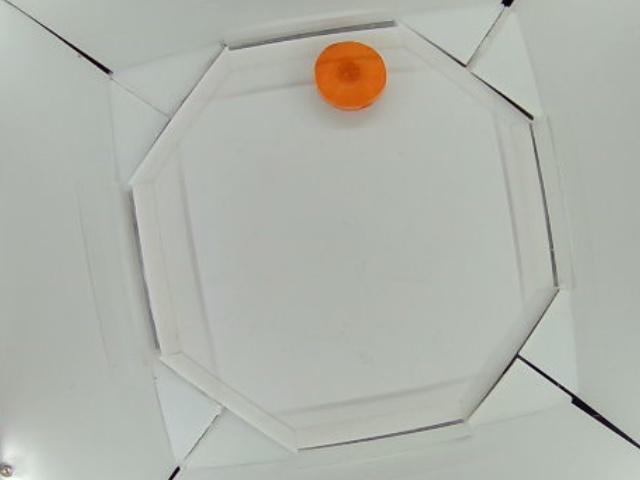Carrot: (314, 42, 389, 111)
